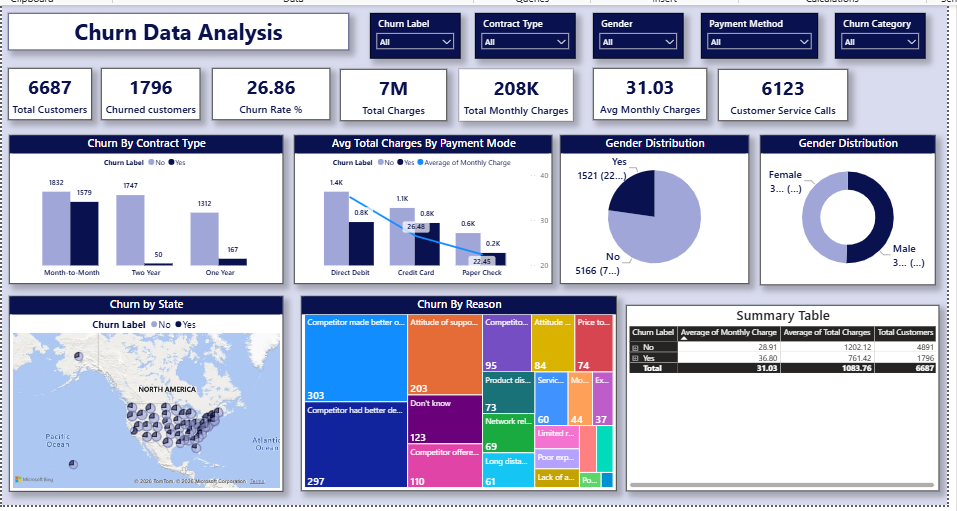

The dashboard page shown, as its layout file describes it:
{"tool":"powerbi","page":{"name":"Page 1","canvas":[1600,846],"ordinal":0},"visuals":[{"type":"textbox","box":[10,13.3,576.7,63.3],"z":0},{"type":"slicer","fields":{"Values":["Databel - Data.Churn Label"]},"box":[623.3,13.3,153.3,76.7],"z":1000},{"type":"slicer","fields":{"Values":["Databel - Data.Contract Type"]},"box":[800,13.3,170,76.7],"z":2000},{"type":"slicer","fields":{"Values":["Databel - Data.Gender"]},"box":[1000,13.3,153.3,76.7],"z":3000},{"type":"slicer","fields":{"Values":["Databel - Data.Payment Method"]},"box":[1183.3,13.3,198.3,76.7],"z":4000},{"type":"slicer","fields":{"Values":["Databel - Data.Churn Category"]},"box":[1410,13.3,153.3,76.7],"z":5000},{"type":"card","fields":{"Values":["Databel - Data.Total Customers"]},"box":[10,106.7,141.7,88.3],"z":6000},{"type":"card","fields":{"Values":["Databel - Data.Churned customers"]},"box":[166.7,106.7,168.3,88.3],"z":7000},{"type":"card","fields":{"Values":["Databel - Data.Churn Rate %"]},"box":[355.3,106.6,199.7,88],"z":8000},{"type":"card","fields":{"Values":["Sum(Databel - Data.Total Charges)"]},"box":[571.9,108.3,181,88],"z":9000},{"type":"card","fields":{"Values":["Sum(Databel - Data.Monthly Charge)"]},"box":[773.2,108.3,193.3,88.3],"z":10000},{"type":"card","fields":{"Values":["Avg(Databel - Data.Monthly Charge)"]},"box":[1000,106.6,193.3,88.3],"z":11000},{"type":"card","fields":{"Values":["Sum(Databel - Data.Customer Service Calls)"]},"box":[1211.5,108.3,220,88],"z":12000},{"type":"lineClusteredColumnComboChart","title":"Avg Total Charges By Payment Mode ","fields":{"Category":["Databel - Data.Payment Method"],"Y":["Avg(Databel - Data.Total Charges)"],"Series":["Databel - Data.Churn Label"],"Y2":["Avg(Databel - Data.Monthly Charge)"]},"box":[494,219.6,437.2,251.7],"z":13000},{"type":"donutChart","title":"Gender Distribution ","fields":{"Category":["Databel - Data.Gender"],"Y":["Databel - Data.Total Customers"]},"box":[1283.3,219.6,297.2,253.6],"z":14000},{"type":"map","title":"Churn by State","fields":{"Category":["Databel - Data.State"],"Size":["Databel - Data.Total Customers"],"Series":["Databel - Data.Churn Label"]},"box":[11.2,491.5,463.5,330.8],"z":15000},{"type":"lineClusteredColumnComboChart","title":"Churn By Contract Type","fields":{"Category":["Databel - Data.Contract Type"],"Y":["Databel - Data.Total Customers"],"Series":["Databel - Data.Churn Label"]},"box":[11.4,219.6,463.7,251.7],"z":16000},{"type":"pieChart","title":"Gender Distribution ","fields":{"Y":["Databel - Data.Total Customers"],"Category":["Databel - Data.Group"]},"box":[944.5,219.6,319.9,251.7],"z":17000},{"type":"pivotTable","title":"Summary Table","fields":{"Rows":["Databel - Data.Churn Label","Databel - Data.Gender","Databel - Data.Contract Type"],"Values":["Avg(Databel - Data.Monthly Charge)","Avg(Databel - Data.Total Charges)","Databel - Data.Total Customers"]},"box":[1056.3,507.5,529.9,314.8],"z":18000},{"type":"treemap","title":"Churn By Reason","fields":{"Group":["Databel - Data.Churn Reason"],"Values":["Databel - Data.Churned customers"]},"box":[506,492,534,330],"z":19000}]}

Visuals, with their boxes in screenshot pixels (x1, y1, x2, y2):
textbox: region(6, 10, 346, 48)
slicer - Databel - Data.Churn Label: region(368, 10, 458, 56)
slicer - Databel - Data.Contract Type: region(472, 10, 572, 56)
slicer - Databel - Data.Gender: region(590, 10, 680, 56)
slicer - Databel - Data.Payment Method: region(698, 10, 815, 56)
slicer - Databel - Data.Churn Category: region(832, 10, 922, 56)
card - Databel - Data.Total Customers: region(6, 65, 89, 118)
card - Databel - Data.Churned customers: region(98, 65, 198, 118)
card - Databel - Data.Churn Rate %: region(210, 65, 327, 117)
card - Sum(Databel - Data.Total Charges): region(337, 66, 444, 118)
card - Sum(Databel - Data.Monthly Charge): region(456, 66, 570, 118)
card - Avg(Databel - Data.Monthly Charge): region(590, 65, 704, 117)
card - Sum(Databel - Data.Customer Service Calls): region(715, 66, 844, 118)
"Avg Total Charges By Payment Mode " lineClusteredColumnComboChart: region(291, 132, 549, 280)
"Gender Distribution " donutChart: region(757, 132, 932, 282)
"Churn by State" map: region(7, 292, 280, 488)
"Churn By Contract Type" lineClusteredColumnComboChart: region(7, 132, 280, 280)
"Gender Distribution " pieChart: region(557, 132, 746, 280)
"Summary Table" pivotTable: region(623, 302, 936, 488)
"Churn By Reason" treemap: region(298, 293, 613, 487)
